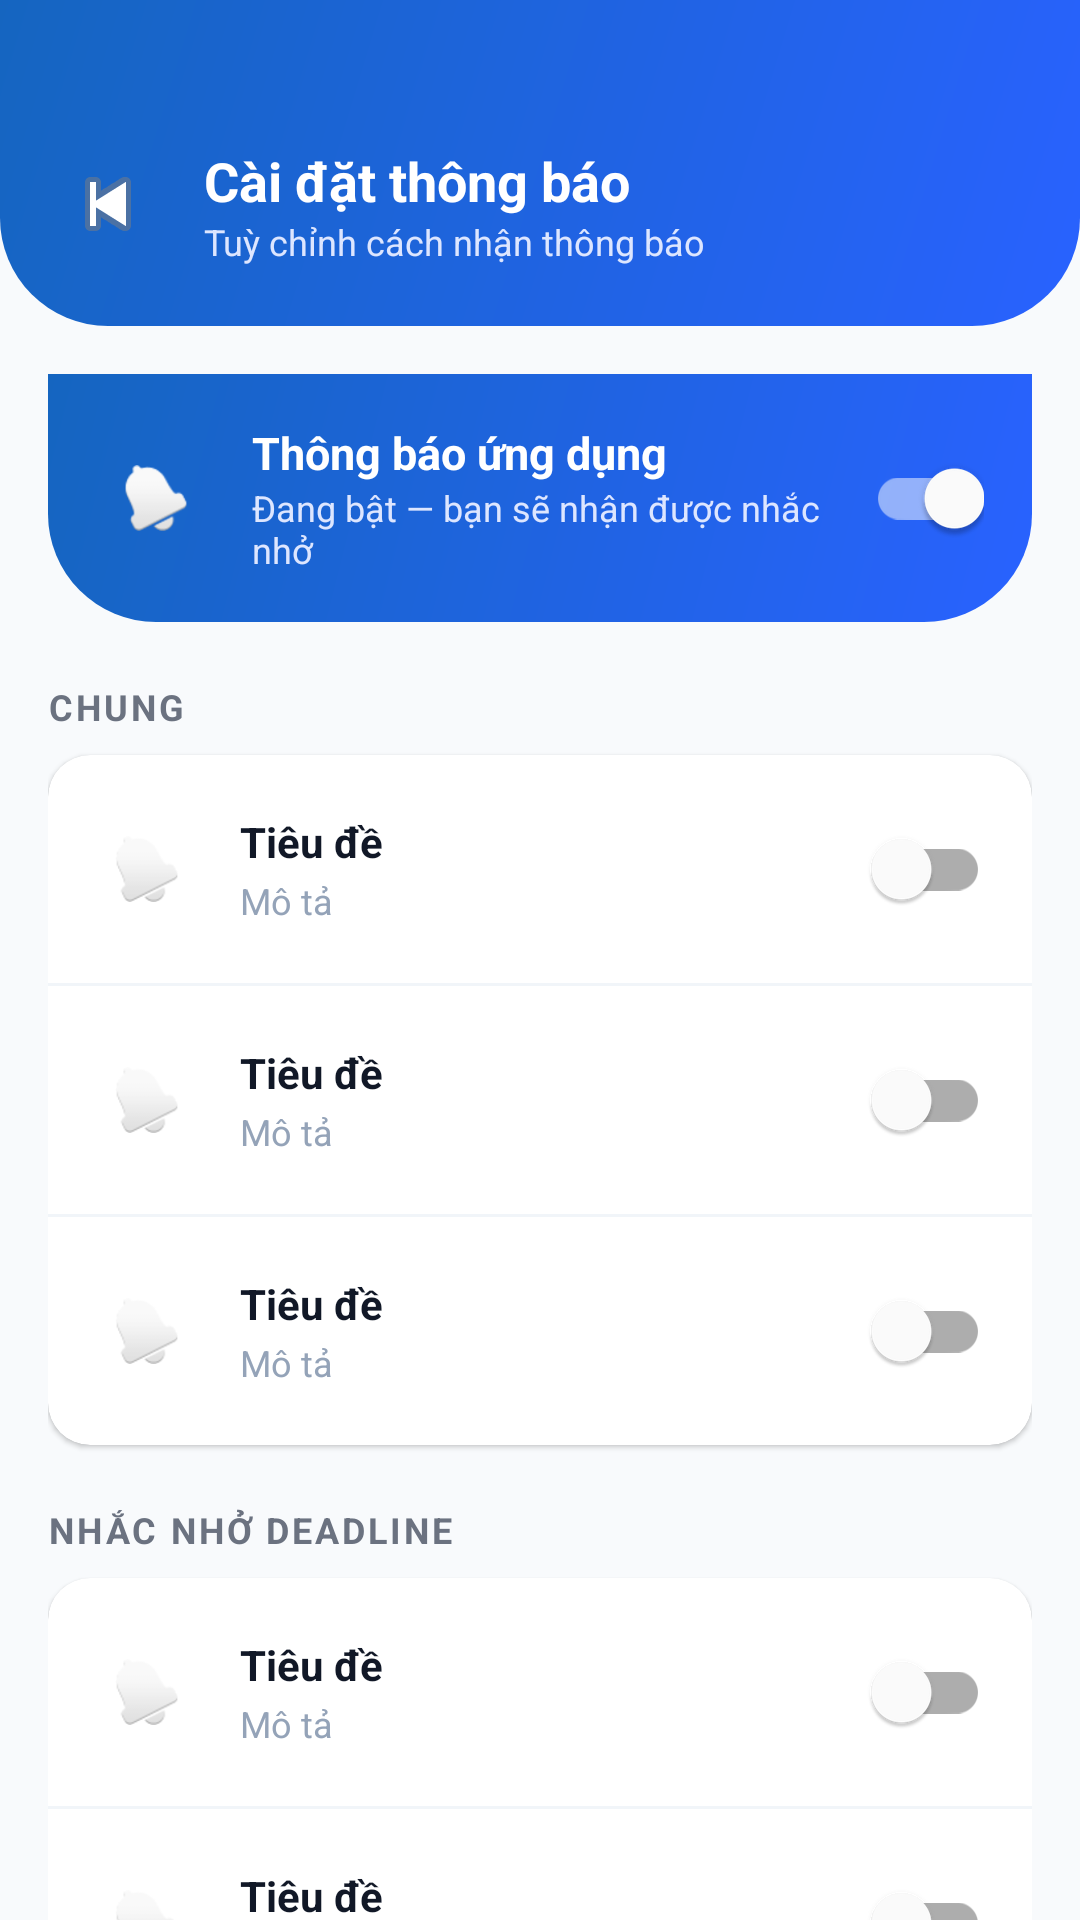

Screen size 1080px×1920px. Icon name, then its box in pixels as (x1, y1, x2, y2):
Quay lại: (85, 177, 131, 231)
